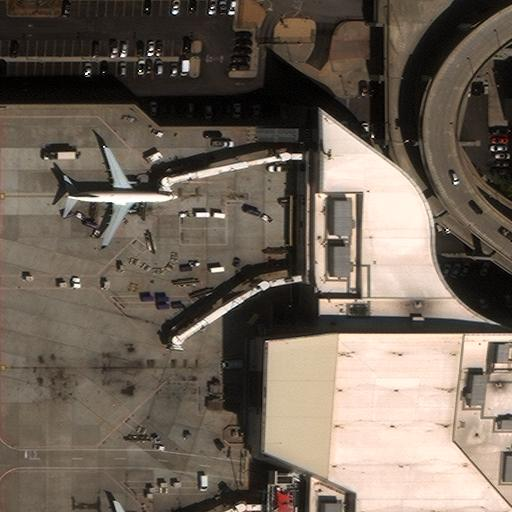Medium Civil Transport: (66, 146, 178, 246)
